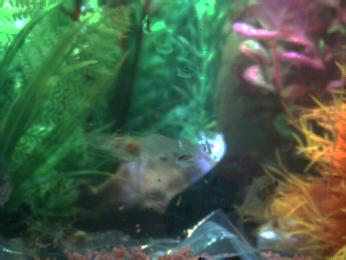X-ray fish: (232, 174, 280, 228), (1, 169, 16, 207)
siberian prawn: (72, 127, 213, 163), (25, 217, 146, 255)
